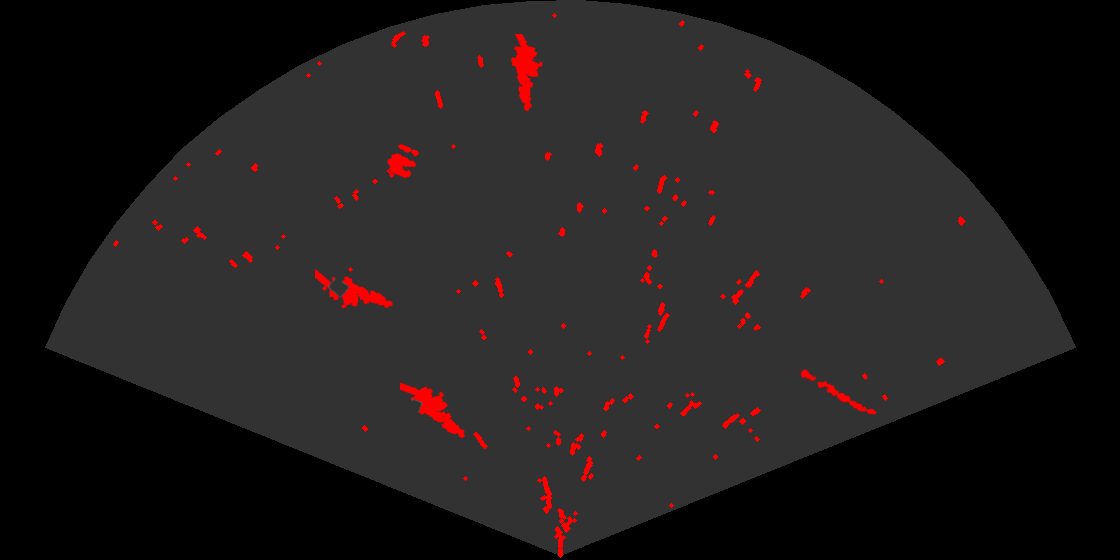ball: (386, 142, 421, 180)
chain: (790, 364, 878, 416)
frogman: (400, 381, 466, 440), (315, 267, 394, 310), (509, 34, 544, 113)
